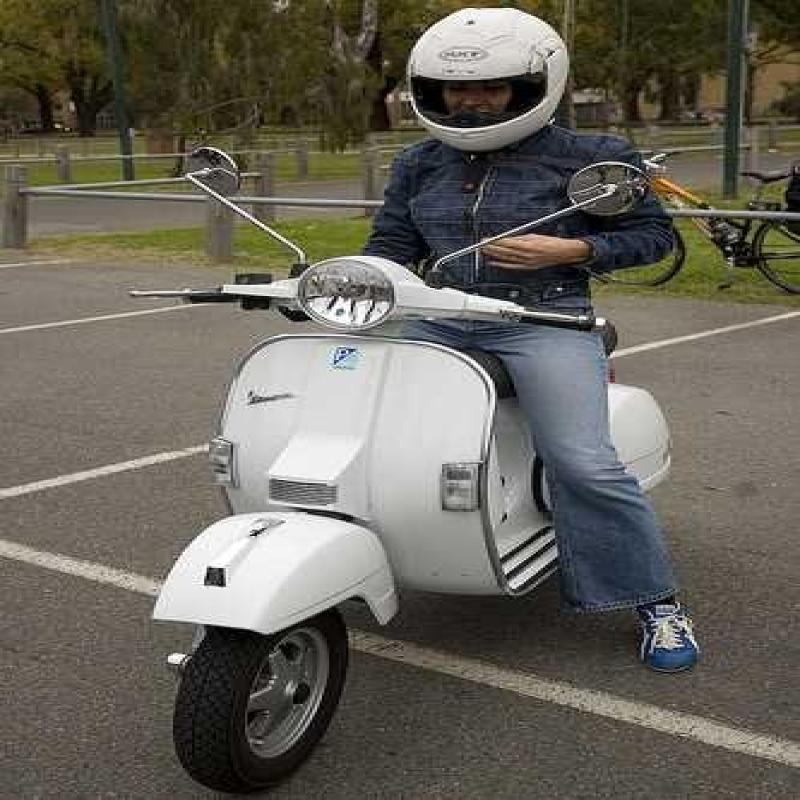bike: (118, 205, 690, 797)
